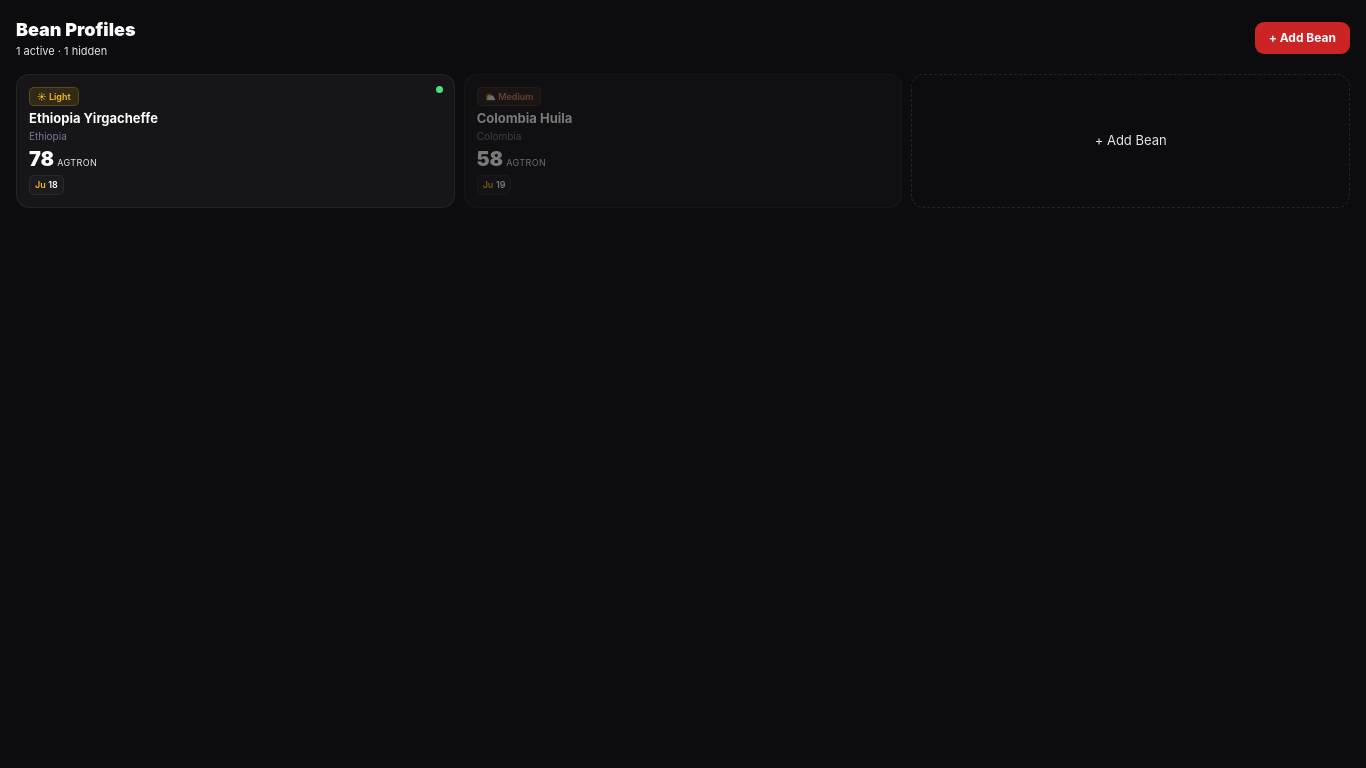
BeanProfiles page › opens drawer when a card is clicked
What coordinates should you click on to do the following:
click the text "Colombia Huila"
I would click on:
 (531, 119)
Its box is [477,111,584,127].
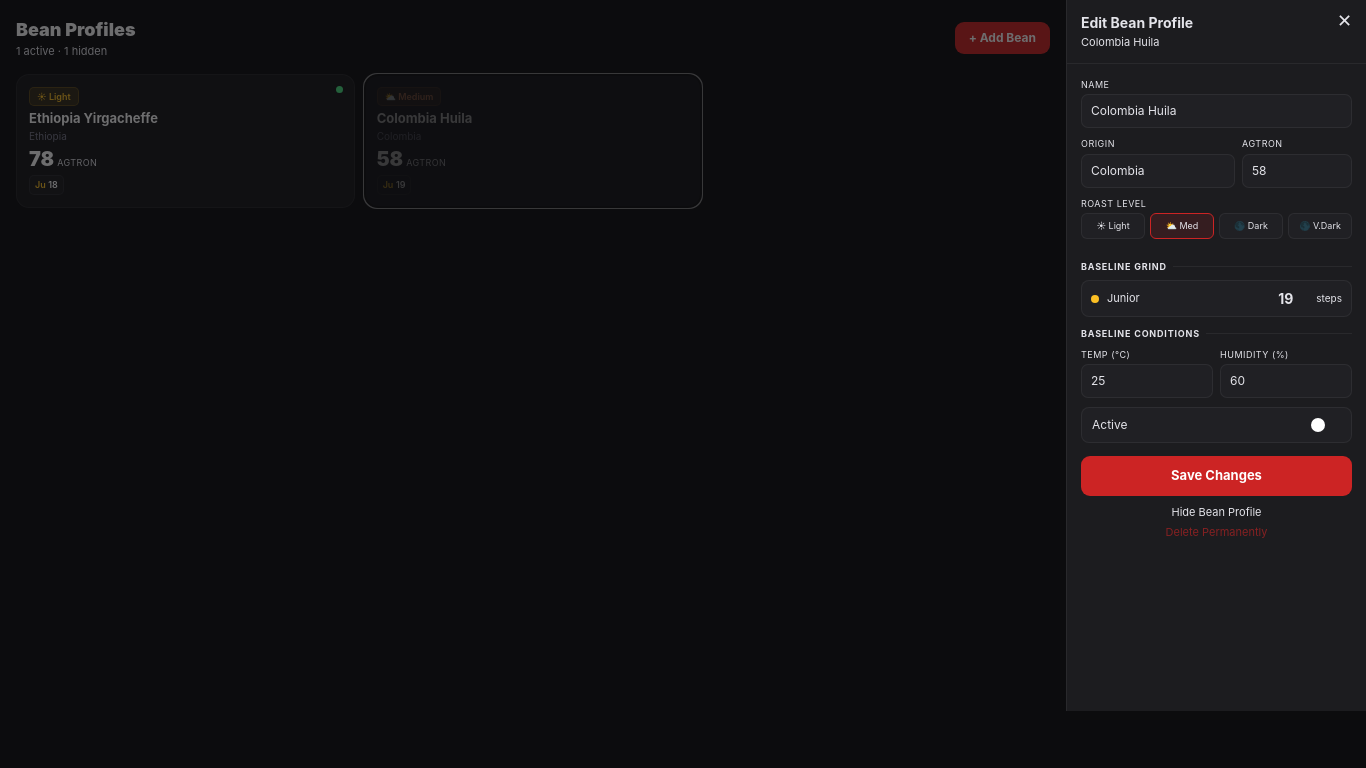
Result: the text "Edit Bean Profile" is shown at [1081,12,1193,33]
